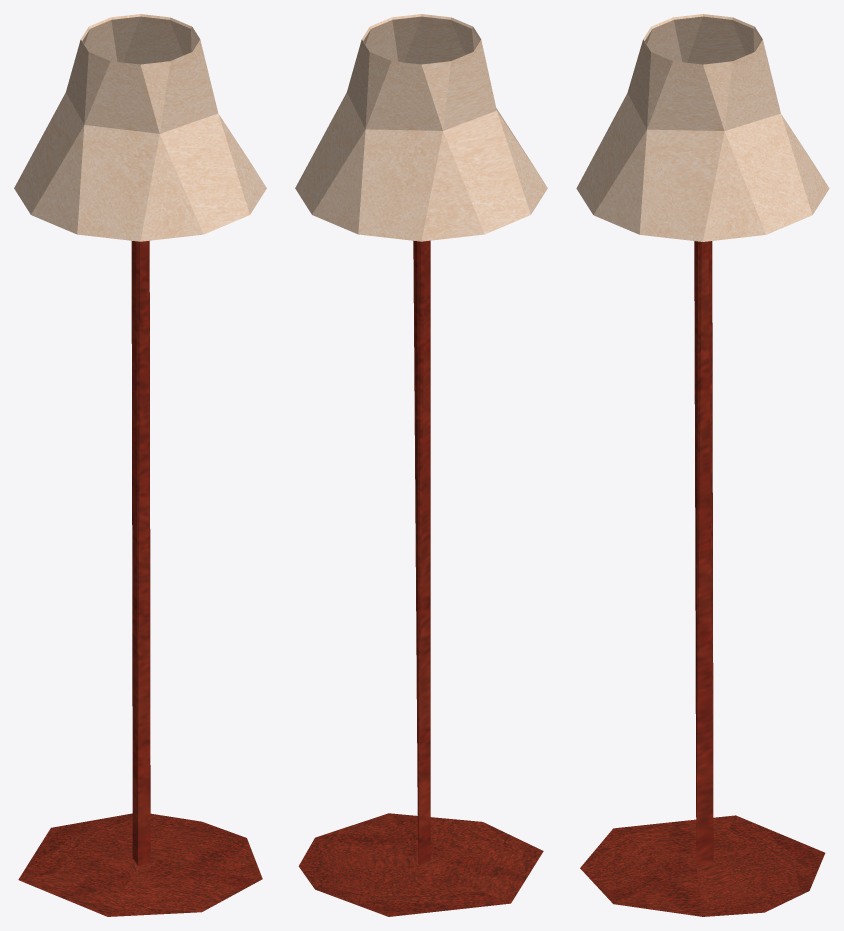
The model's file is tall_lamp_decimated.fbx.
3 renders of one model, left to right at view 1: azimuth 30°, elevation 25°; view 2: azimuth 150°, elevation 25°; view 3: azimuth 270°, elevation 25°, orthographic.
Parts seen in each view (by area): view 1: Circle.001; view 2: Circle.001; view 3: Circle.001.
Part boxes in pixels (x1,y1,x2,y2): Circle.001: (14, 14, 266, 916); Circle.001: (295, 14, 547, 916); Circle.001: (576, 14, 829, 916).
Size of the model in its own units: 206 by 743 by 206.
